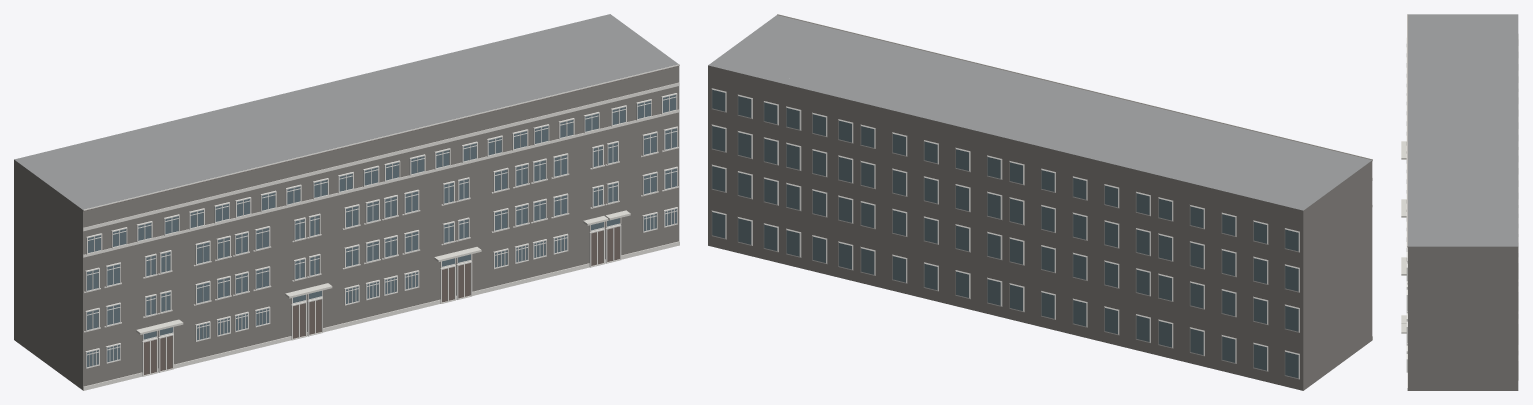
The model's file is chunk-face-theron-2-36-r1.glb.
3 renders of one model, left to right at view 1: azimuth 30°, elevation 25°; view 2: azimuth 150°, elevation 25°; view 3: azimuth 270°, elevation 25°, orthographic. The views are drawn at different scales.
Visible parts, largest first — view 1: face-theron-2-36-r1; view 2: face-theron-2-36-r1; view 3: face-theron-2-36-r1.
Boxes of the visible parts, x1,y1,x2,y2 form: face-theron-2-36-r1: [14, 14, 679, 390]; face-theron-2-36-r1: [708, 14, 1372, 390]; face-theron-2-36-r1: [1401, 14, 1518, 390].
Size of the model in its own units: 48 by 13.93 by 10.27.
